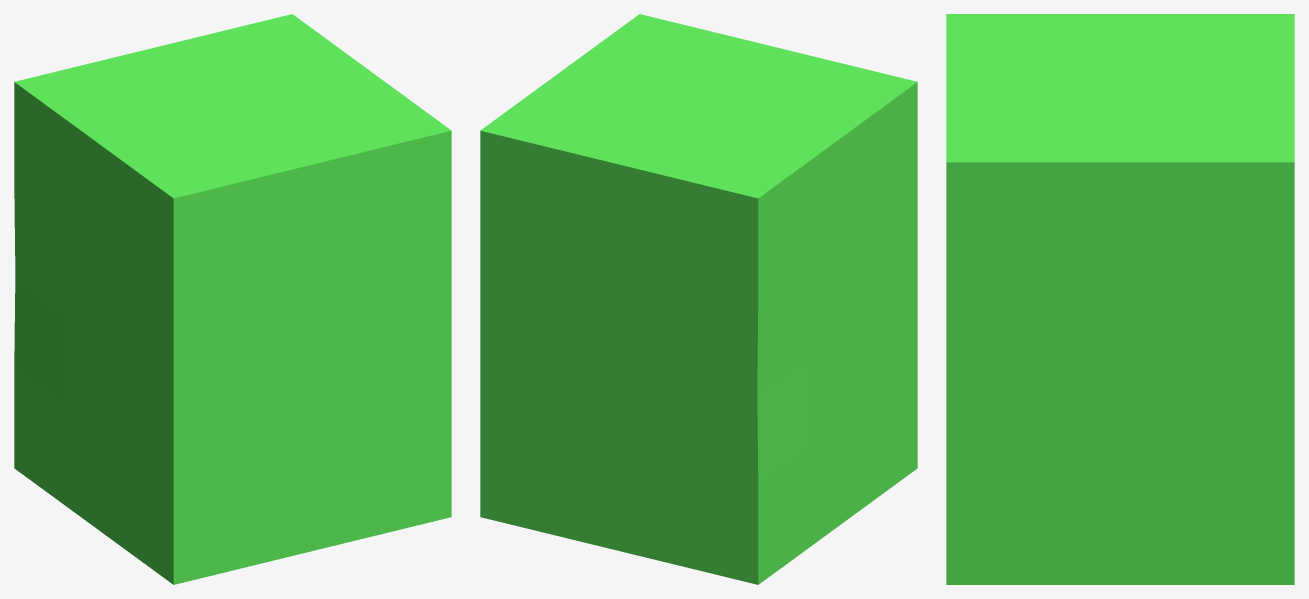
Rendered from Tiles3D_Sol_angle_ext_E.fbx.
The picture shows the model from 3 angles, left to right: view 1: azimuth 30°, elevation 25°; view 2: azimuth 150°, elevation 25°; view 3: azimuth 270°, elevation 25°; orthographic projection. The views are drawn at different scales.
Parts seen in each view (by area): view 1: Tiles3D_sol_angle_ext_O; view 2: Tiles3D_sol_angle_ext_O; view 3: Tiles3D_sol_angle_ext_O.
Boxes of the visible parts, left/top/right/bottom form: Tiles3D_sol_angle_ext_O: left=14, top=14, right=451, bottom=584; Tiles3D_sol_angle_ext_O: left=480, top=14, right=917, bottom=584; Tiles3D_sol_angle_ext_O: left=946, top=14, right=1294, bottom=584.
Bounding box in the file's own units: 75.3 × 100 × 74.75.
1 material, 1 textured.
